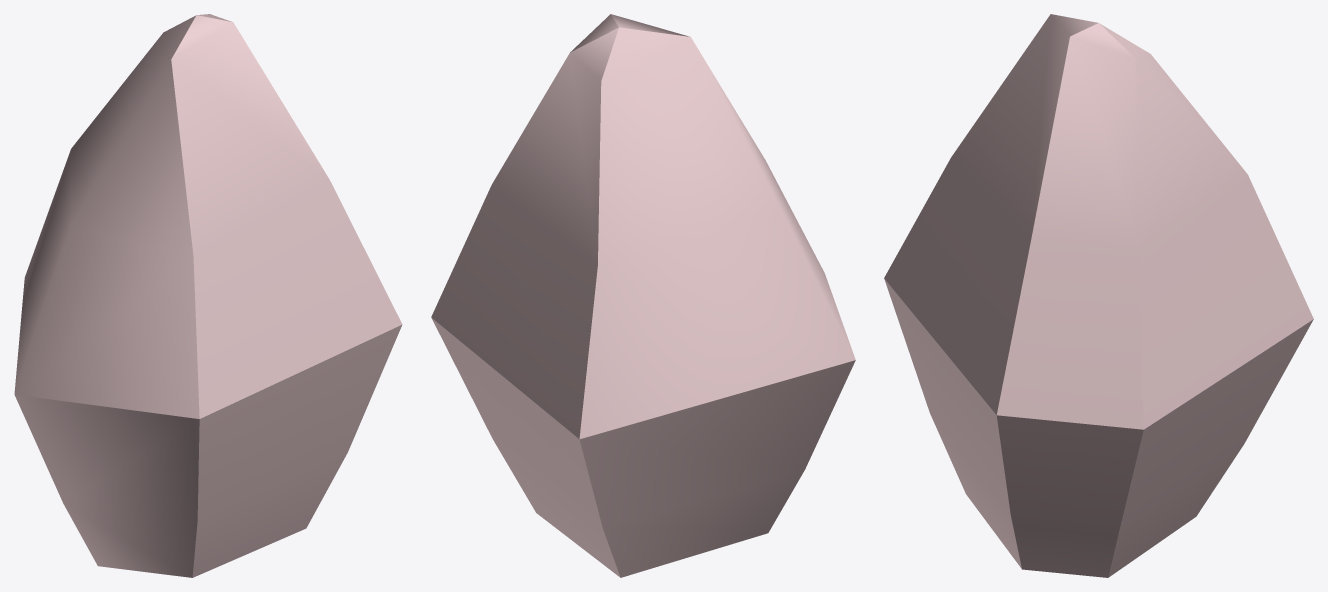
File: SM_Crystal_03.fbx
3 renders of one model, left to right at view 1: azimuth 30°, elevation 25°; view 2: azimuth 150°, elevation 25°; view 3: azimuth 270°, elevation 25°, orthographic. The views are drawn at different scales.
Parts seen in each view (by area): view 1: SM_Crystal_03; view 2: SM_Crystal_03; view 3: SM_Crystal_03.
Boxes of the visible parts, x1,y1,x2,y2 form: SM_Crystal_03: [14, 14, 402, 577]; SM_Crystal_03: [431, 14, 855, 577]; SM_Crystal_03: [884, 14, 1313, 577].
Bounding box in the file's own units: 45.54 × 58.59 × 44.04.
